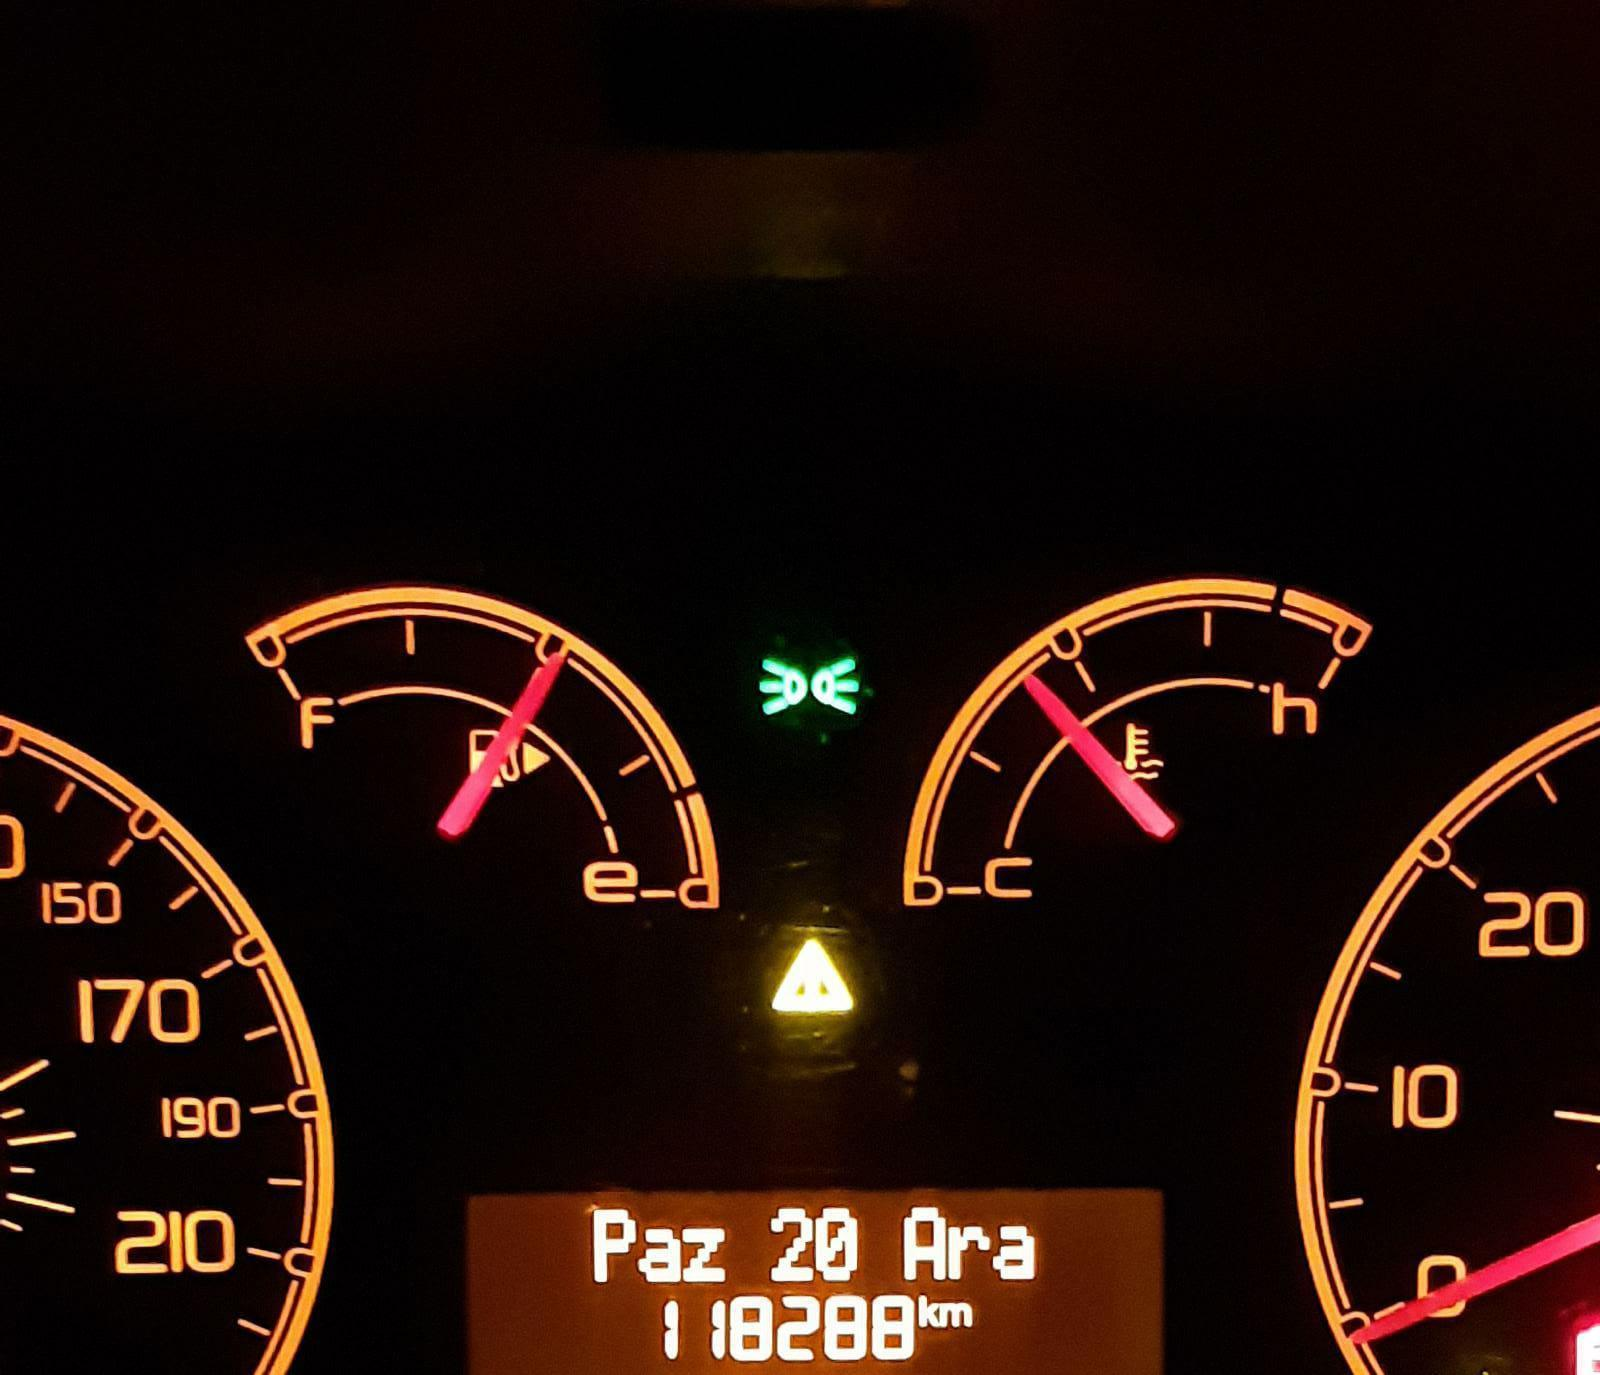0: (814, 1202, 861, 1284)
1: (656, 1291, 684, 1363), (703, 1292, 729, 1367)
2: (765, 1204, 814, 1292), (776, 1293, 819, 1364)
8: (869, 1289, 916, 1364), (729, 1291, 771, 1365), (824, 1293, 867, 1365)
X: (584, 1204, 637, 1292), (898, 1201, 946, 1281), (995, 1219, 1044, 1289), (679, 1223, 728, 1288), (635, 1219, 682, 1287), (946, 1221, 988, 1283), (917, 1293, 939, 1336), (940, 1303, 973, 1330)
odometer: (454, 1183, 1180, 1370)
